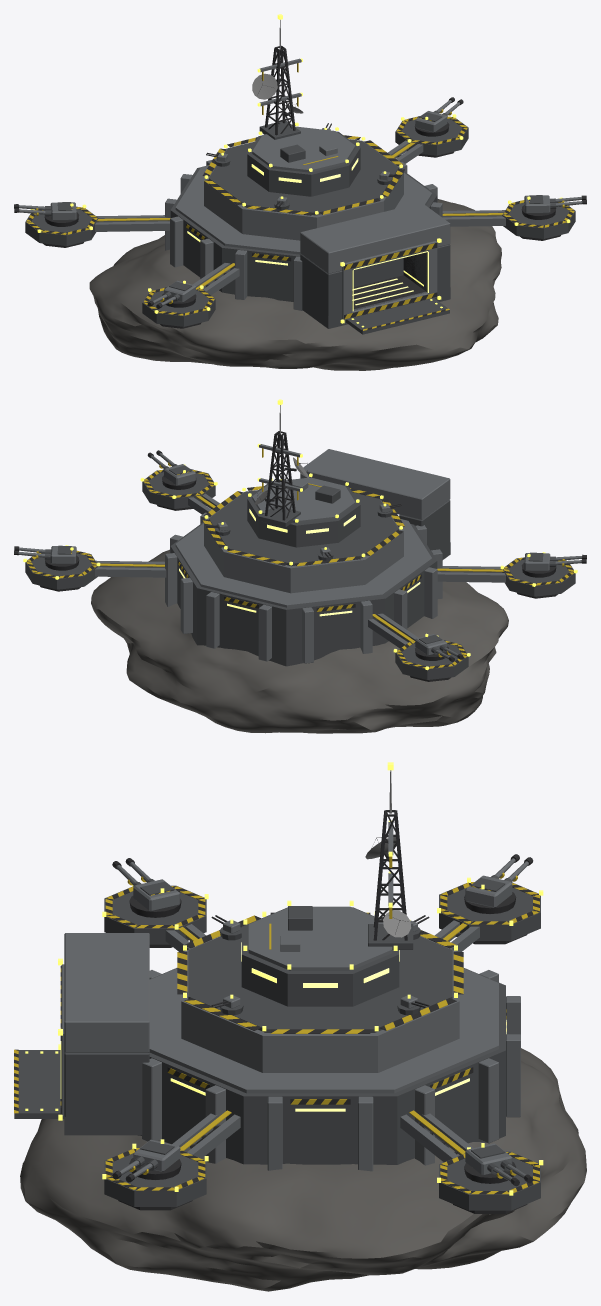
Rendered from syndicate_fortress.glb.
The picture shows the model from 3 angles, top to bottom: view 1: azimuth 30°, elevation 25°; view 2: azimuth 150°, elevation 25°; view 3: azimuth 270°, elevation 25°; orthographic projection. The views are drawn at different scales.
Visible parts, largest first — view 1: den_rock, den_salvage, den_lights, den_hangar_glow; view 2: den_rock, den_salvage, den_lights; view 3: den_rock, den_salvage, den_lights.
Boxes of the visible parts, x1,y1,x2,y2 form: den_rock: [89, 126, 501, 370]; den_salvage: [14, 20, 586, 334]; den_lights: [30, 14, 570, 327]; den_hangar_glow: [352, 251, 428, 311]; den_rock: [91, 449, 508, 733]; den_salvage: [14, 405, 586, 681]; den_lights: [23, 399, 577, 670]; den_rock: [20, 906, 586, 1291]; den_salvage: [14, 770, 540, 1213]; den_lights: [25, 762, 543, 1195].
Bounding box in the file's own units: 154 × 98.44 × 114.
